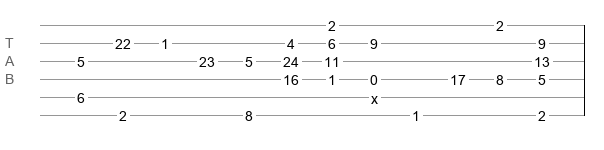0: (370, 72, 378, 82)
1: (161, 36, 169, 46), (328, 72, 336, 82), (412, 108, 420, 118)
11: (324, 54, 340, 64)
13: (534, 54, 550, 64)
16: (283, 72, 299, 82)
17: (450, 72, 466, 82)
2: (119, 108, 127, 118), (328, 18, 336, 28), (496, 18, 504, 28), (538, 108, 546, 118)
22: (115, 36, 131, 46)
23: (199, 54, 215, 64)
24: (283, 54, 299, 64)
4: (287, 36, 295, 46)
5: (77, 54, 85, 64), (245, 54, 253, 64), (538, 72, 546, 82)
6: (77, 90, 85, 100), (328, 36, 336, 46)
8: (245, 108, 253, 118), (496, 72, 504, 82)
9: (370, 36, 378, 46), (538, 36, 546, 46)
x: (371, 91, 378, 99)
